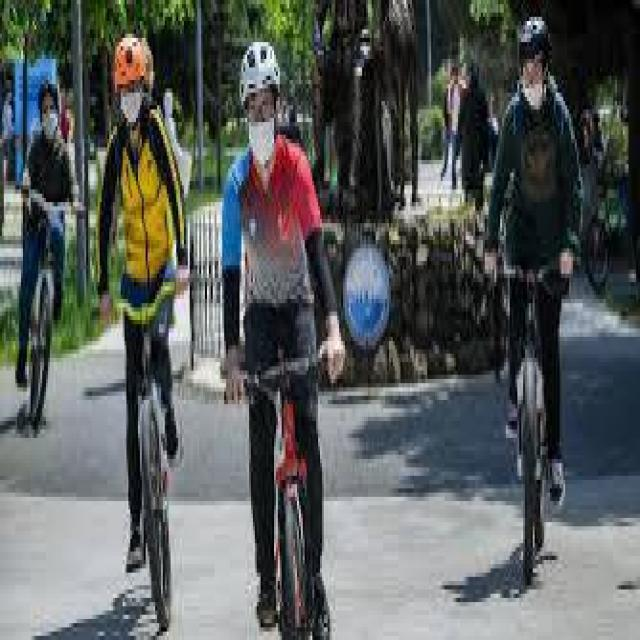bicycle: (243, 317, 337, 637), (492, 254, 572, 586), (135, 342, 179, 628), (18, 195, 70, 435), (584, 174, 616, 296)
